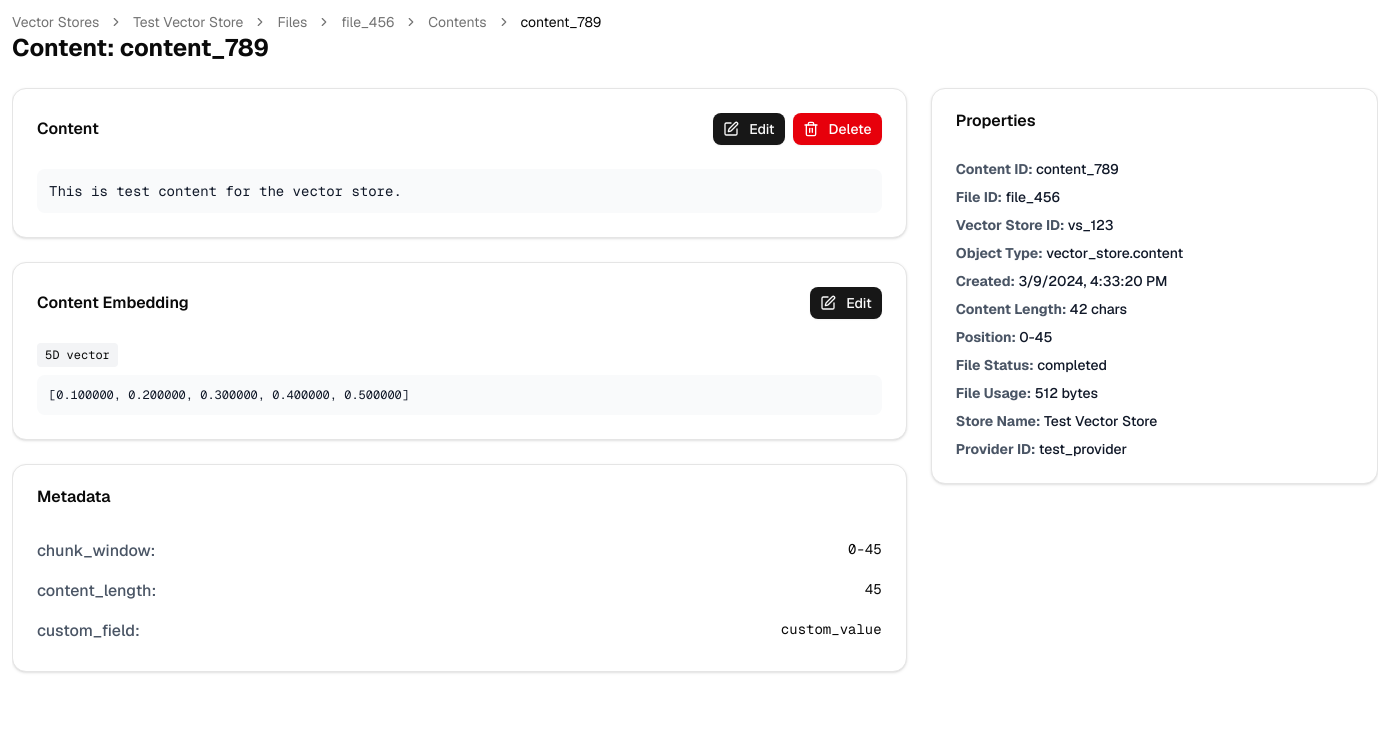
ContentDetailPage › Edit Functionality › enables edit mode when edit button is clicked
The width and height of the screenshot is (1378, 755).
Expected: the text "This is test content for the vector store." is shown, [49,182,402,200]
Click the 1st button "Edit".
click(749, 129)  # box [713,113,785,145]
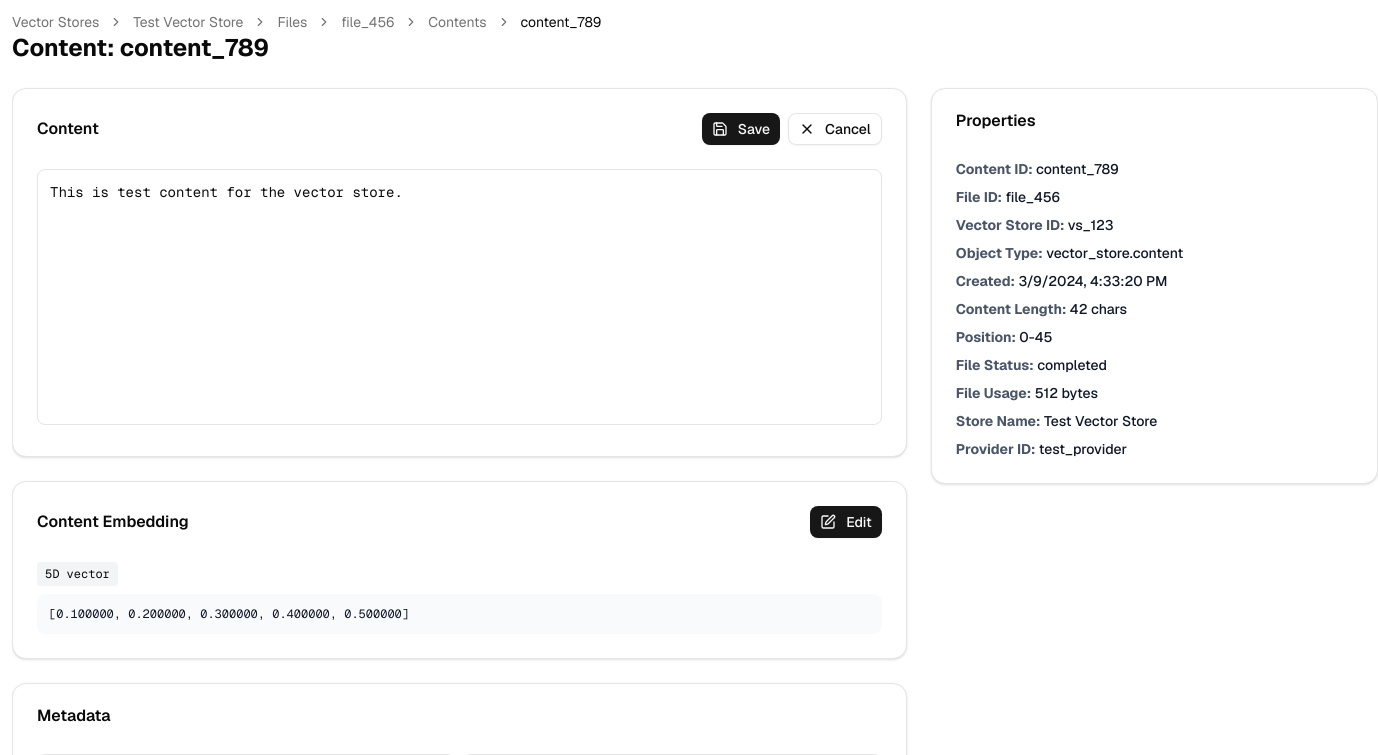
Expected: the text box showing "This is test content for the vector store." is shown, [37,169,882,425]
Expected: the button "Save" is shown, [702,113,780,145]
Expected: the button "Cancel" is shown, [788,113,882,145]
